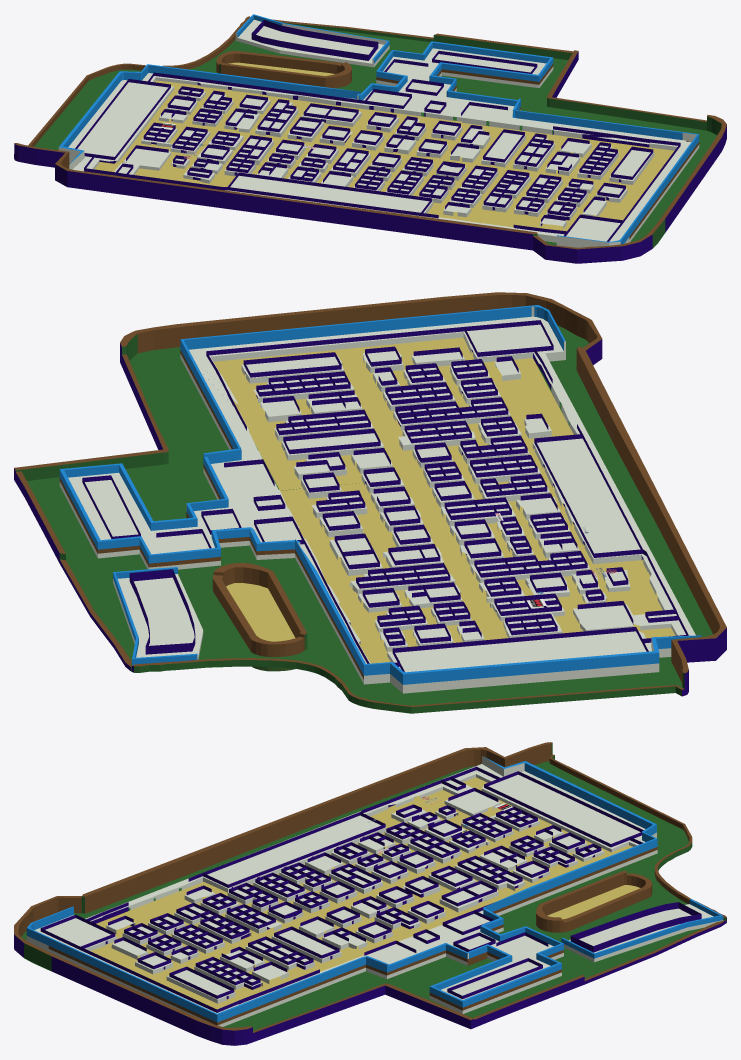
The model's file is NRF_V_03.glb.
The picture shows the model from 3 angles, top to bottom: view 1: azimuth 30°, elevation 25°; view 2: azimuth 150°, elevation 25°; view 3: azimuth 270°, elevation 25°; orthographic projection. The views are drawn at different scales.
Visible parts, largest first — view 1: Ways; view 2: Ways; view 3: Ways.
Part boxes in pixels (x1,y1,x2,y2): Ways: (14,14,726,263); Ways: (14,292,726,713); Ways: (14,742,726,1045).
Size of the model in its own units: 206 by 10.2 by 217.
11 materials, 5 textured.
